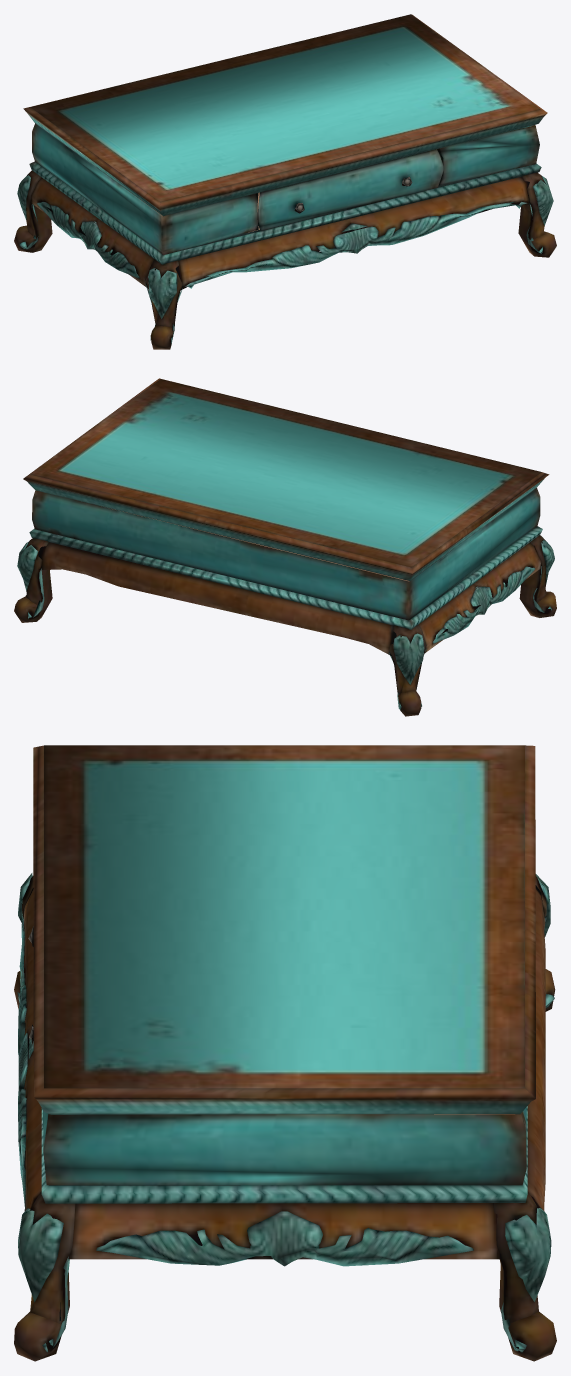
The model's file is CoffeeTable_01.glb.
The picture shows the model from 3 angles, top to bottom: view 1: azimuth 30°, elevation 25°; view 2: azimuth 150°, elevation 25°; view 3: azimuth 270°, elevation 25°; orthographic projection. The views are drawn at different scales.
Parts seen in each view (by area): view 1: CoffeeTable_01; view 2: CoffeeTable_01; view 3: CoffeeTable_01.
Boxes of the visible parts, x1,y1,x2,y2 form: CoffeeTable_01: (14,14,556,349); CoffeeTable_01: (14,378,556,716); CoffeeTable_01: (14,745,556,1361).
Bounding box in the file's own units: 1.54 × 0.5213 × 0.9697.
1 material, 1 textured.
